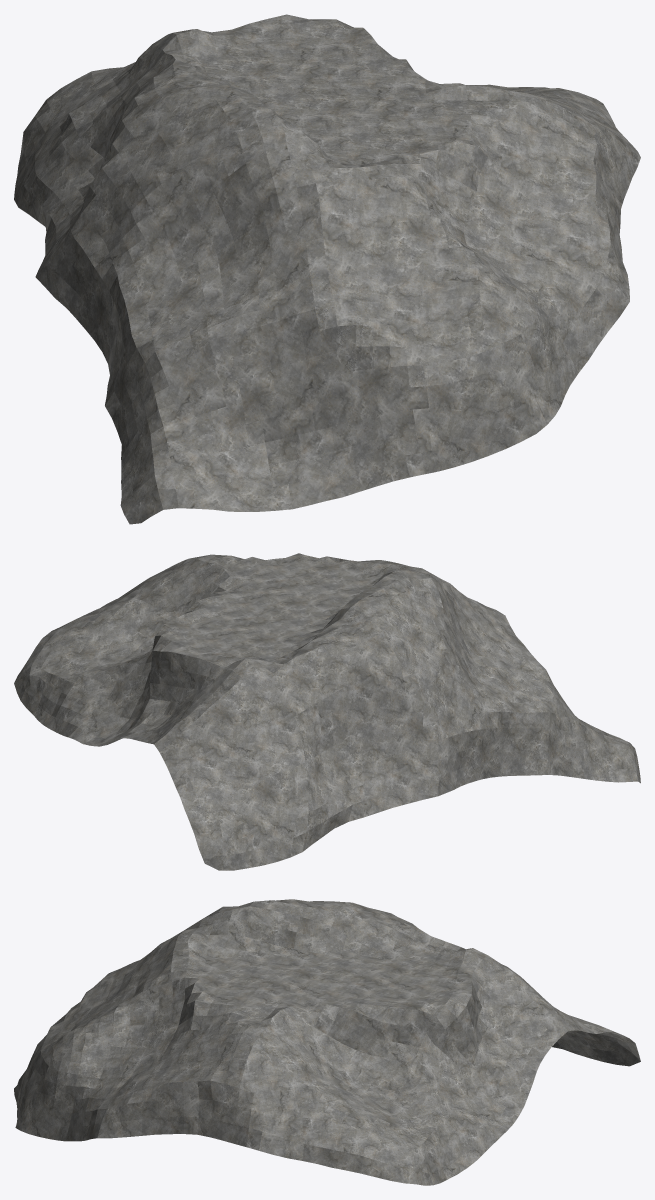
The model's file is Rock.fbx.
The picture shows the model from 3 angles, top to bottom: view 1: azimuth 30°, elevation 25°; view 2: azimuth 150°, elevation 25°; view 3: azimuth 270°, elevation 25°; orthographic projection. The views are drawn at different scales.
Parts seen in each view (by area): view 1: Rock; view 2: Rock; view 3: Rock.
Boxes of the visible parts, left/top/right/bottom form: Rock: left=14, top=14, right=640, bottom=524; Rock: left=14, top=553, right=640, bottom=870; Rock: left=14, top=899, right=640, bottom=1185.
Bounding box in the file's own units: 421 × 182 × 463.
